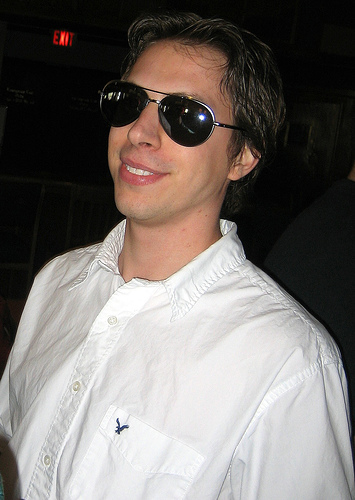without_mask: (104, 38, 262, 241)
